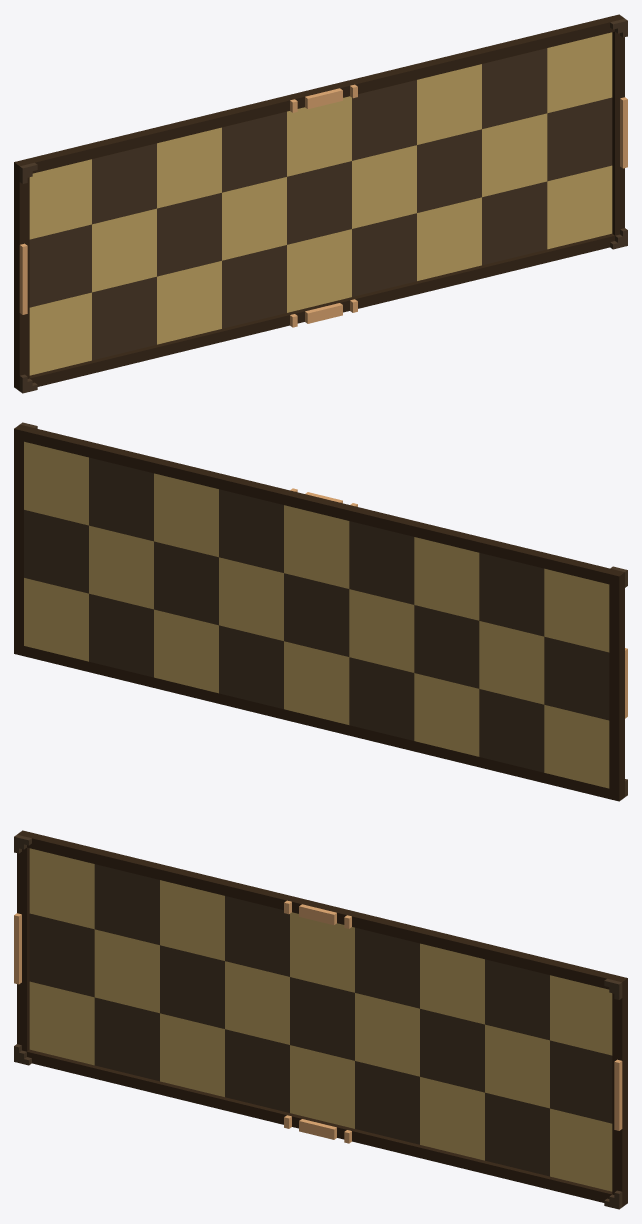
Rendered from board.obj.
The picture shows the model from 3 angles, top to bottom: view 1: azimuth 30°, elevation 25°; view 2: azimuth 150°, elevation 25°; view 3: azimuth 330°, elevation 25°; orthographic projection.
Parts seen in each view (by area): view 1: board; view 2: board; view 3: board.
Boxes of the visible parts, x1,y1,x2,y2 form: board: [14, 14, 627, 393]; board: [14, 422, 627, 801]; board: [14, 830, 627, 1209].
Bounding box in the file's own units: 121 × 43 × 3.
